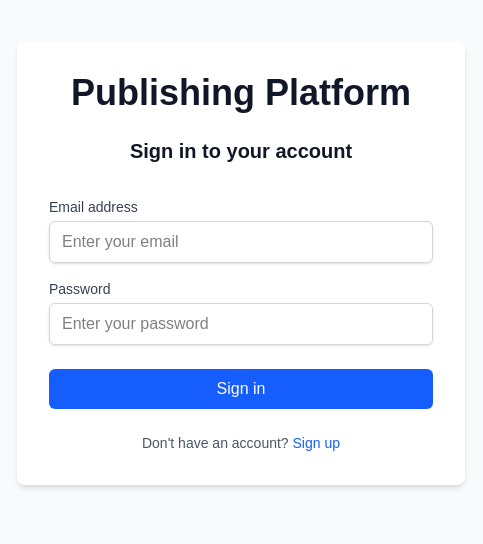
Test: LoginPage › should show error message on login failure
Type "test@example.com" into the field labelled "Email address". click: coordinates (241, 242)
box: [49,221,433,263]
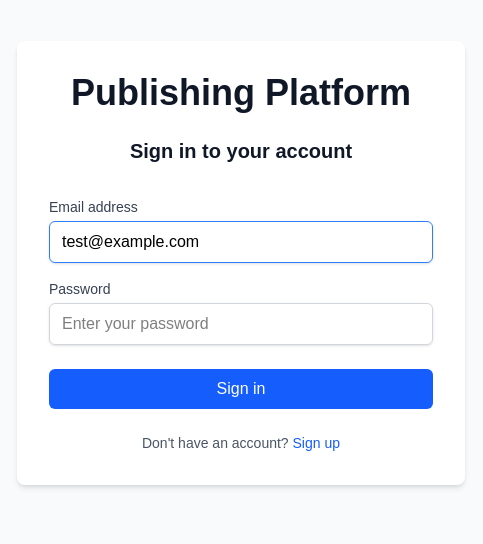
Type "wrongpassword" into the password field labelled "Password". click: coordinates (241, 324)
box: [49,303,433,345]
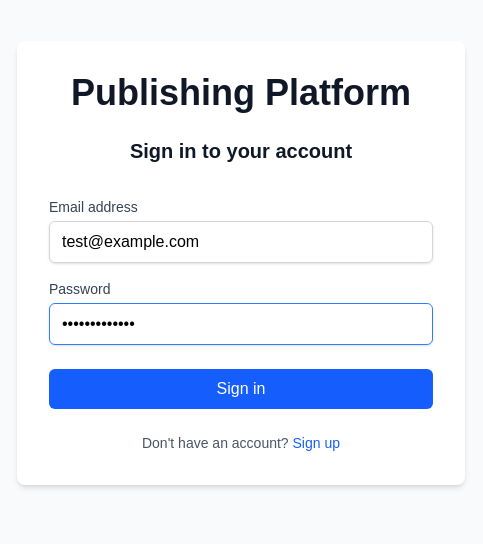
Click the button "Sign in". click: coordinates (241, 389)
box: [49,369,433,409]
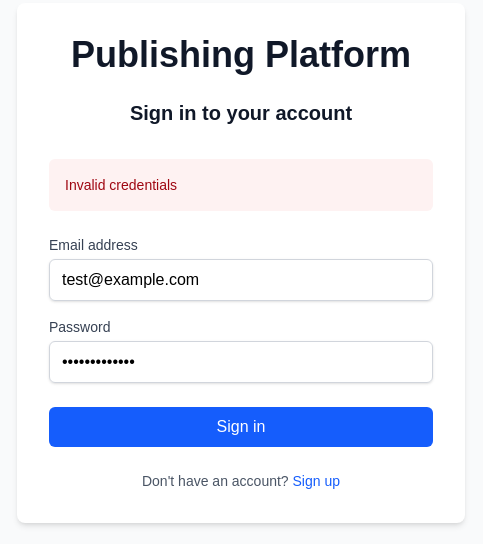
Result: the text "Invalid credentials" is shown at [65,177,177,193]
